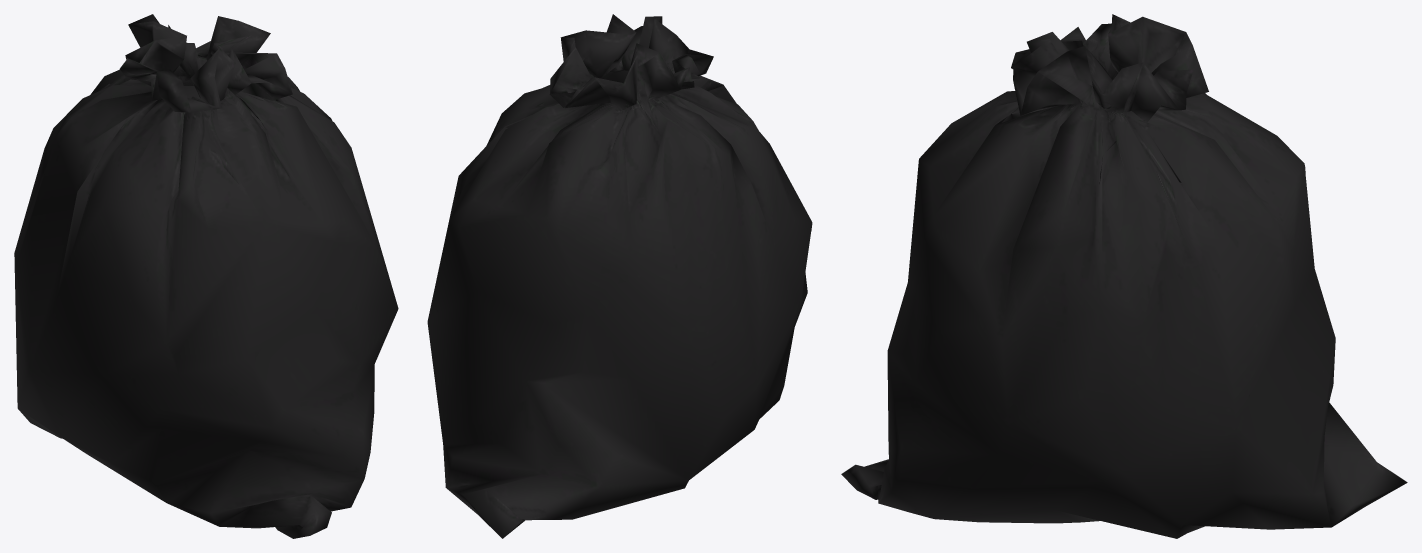
Rendered from trashbag.fbx.
3 views of the same model, side by side, from view 1: azimuth 30°, elevation 25°; view 2: azimuth 150°, elevation 25°; view 3: azimuth 270°, elevation 25° (orthographic). The views are drawn at different scales.
Visible parts, largest first — view 1: trashbag; view 2: trashbag; view 3: trashbag.
Boxes of the visible parts, x1,y1,x2,y2 form: trashbag: (14,14,398,538); trashbag: (427,14,812,538); trashbag: (841,14,1407,538).
Size of the model in its own units: 47.82 by 61.81 by 69.13.
